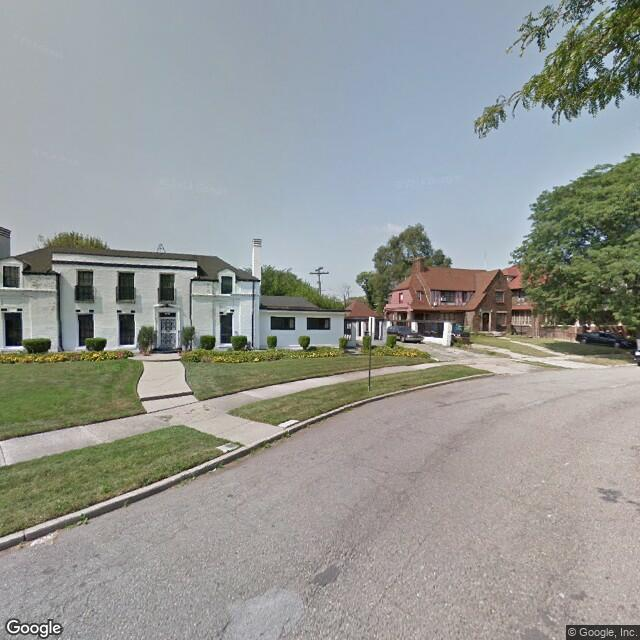litter: (25, 534, 59, 548), (210, 467, 220, 473)
